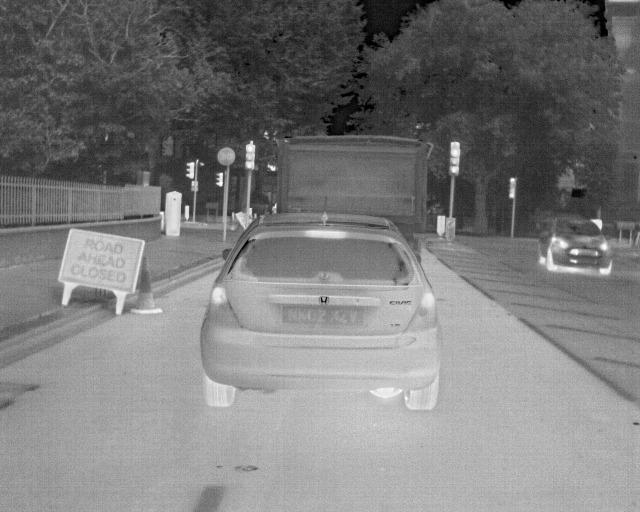car: (199, 212, 439, 410), (274, 134, 435, 266), (537, 214, 612, 274)
light: (450, 142, 459, 174), (245, 144, 255, 169), (509, 178, 515, 198), (186, 162, 191, 178), (216, 173, 221, 186)
sign: (58, 228, 146, 294), (217, 147, 235, 166), (445, 218, 456, 242), (436, 215, 446, 236), (616, 221, 635, 230), (184, 206, 189, 221), (191, 181, 199, 187), (191, 187, 199, 191)
